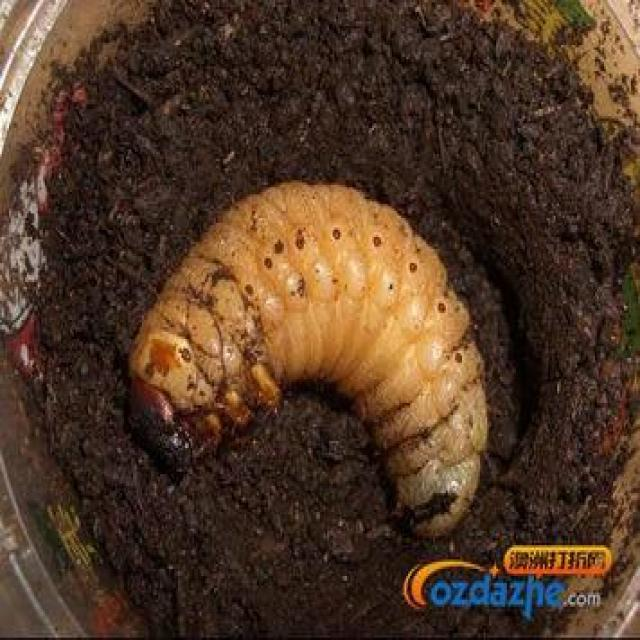Grub-Adult-: (119, 177, 497, 543)
